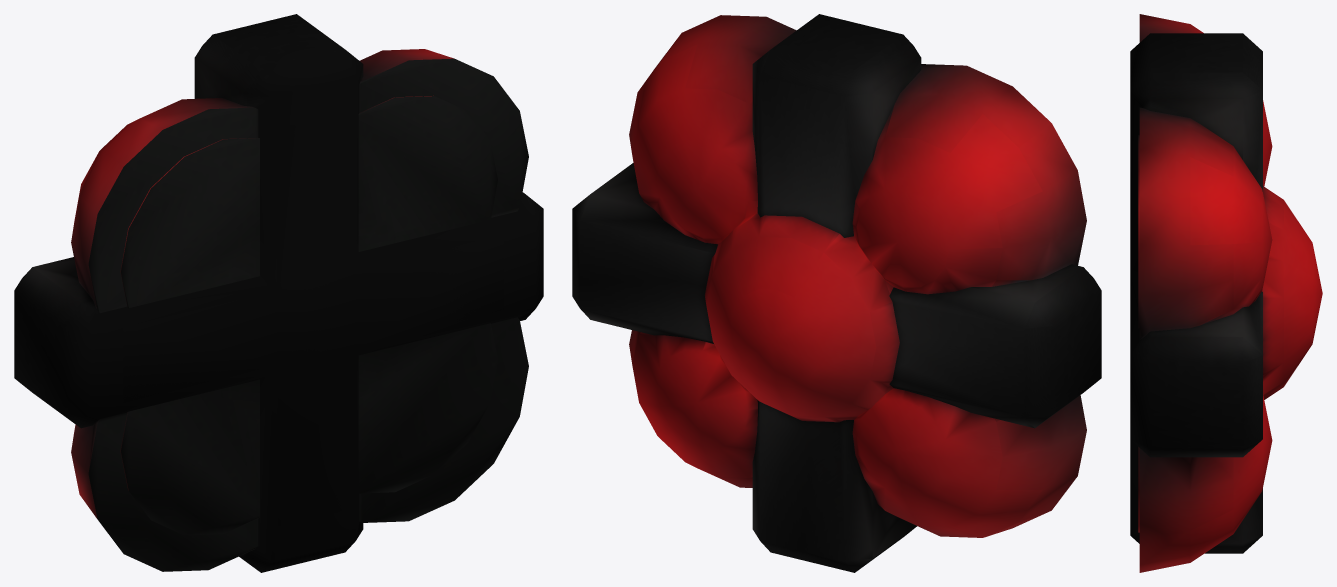
Rendered from note.dae.
3 renders of one model, left to right at view 1: azimuth 30°, elevation 25°; view 2: azimuth 150°, elevation 25°; view 3: azimuth 270°, elevation 25°, orthographic. The views are drawn at different scales.
Visible parts, largest first — view 1: Mesh, Mesh_001; view 2: Mesh; view 3: Mesh, Mesh_001.
Part boxes in pixels (left/top/right/bottom): Mesh: left=14, top=14, right=543, bottom=572; Mesh_001: left=120, top=95, right=503, bottom=535; Mesh: left=572, top=14, right=1101, bottom=572; Mesh: left=1130, top=14, right=1322, bottom=572; Mesh_001: left=1138, top=135, right=1150, bottom=532.
Bounding box in the file's own units: 0.6249 × 0.2266 × 0.6249.
Materials: 2 (2 with a texture image).
